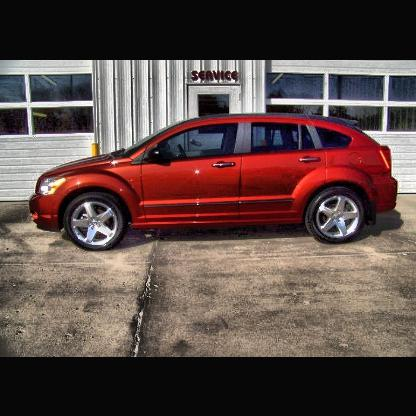Dodge Caliber Wagon 2007: (30, 114, 402, 251)
